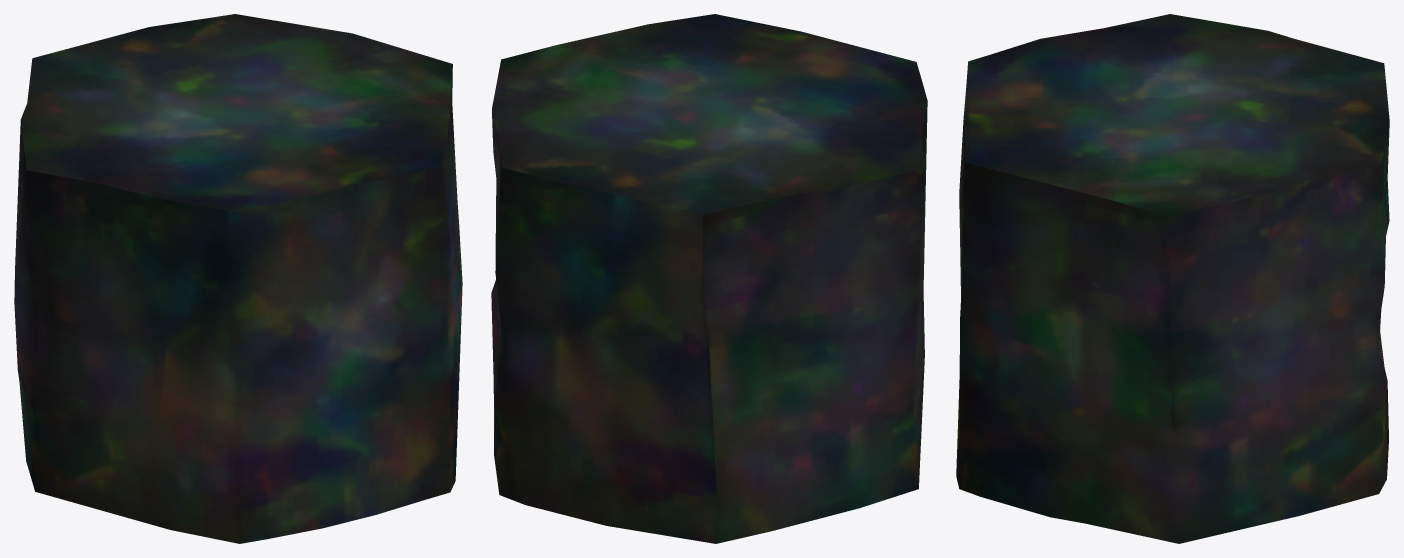
The model's file is objects_un_dlc1_crystal01_04.gltf.
3 views of the same model, side by side, from view 1: azimuth 30°, elevation 25°; view 2: azimuth 150°, elevation 25°; view 3: azimuth 270°, elevation 25° (orthographic).
Parts seen in each view (by area): view 1: crystal_04_in_shape:objects_un_dlc1_crystal01_01; view 2: crystal_04_in_shape:objects_un_dlc1_crystal01_01; view 3: crystal_04_in_shape:objects_un_dlc1_crystal01_01.
Boxes of the visible parts, x1,y1,x2,y2 form: crystal_04_in_shape:objects_un_dlc1_crystal01_01: (14, 14, 462, 543); crystal_04_in_shape:objects_un_dlc1_crystal01_01: (491, 14, 927, 543); crystal_04_in_shape:objects_un_dlc1_crystal01_01: (956, 14, 1389, 543).
Size of what is drawn, in the model's own units: 17.93 by 13.41 by 15.93.
Materials: 1 (1 with a texture image).
